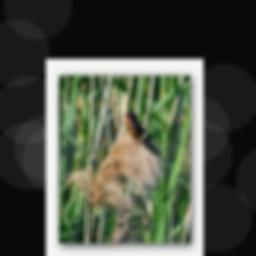Swallow: (120, 108, 165, 161)
